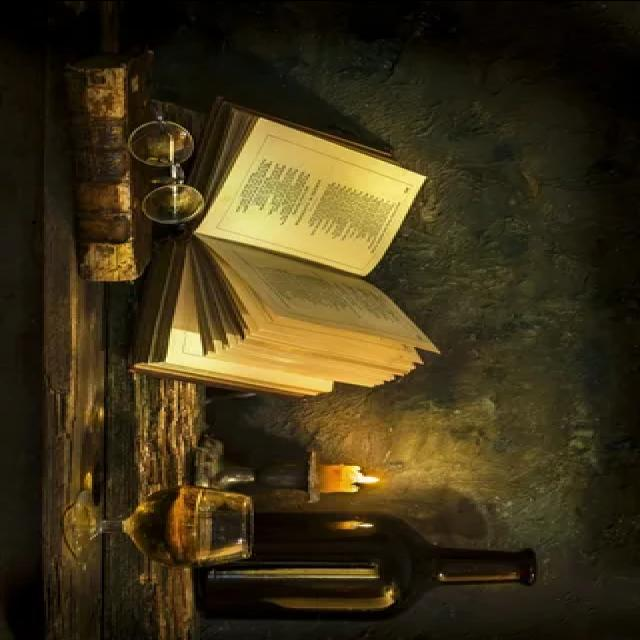book: (134, 97, 457, 410)
